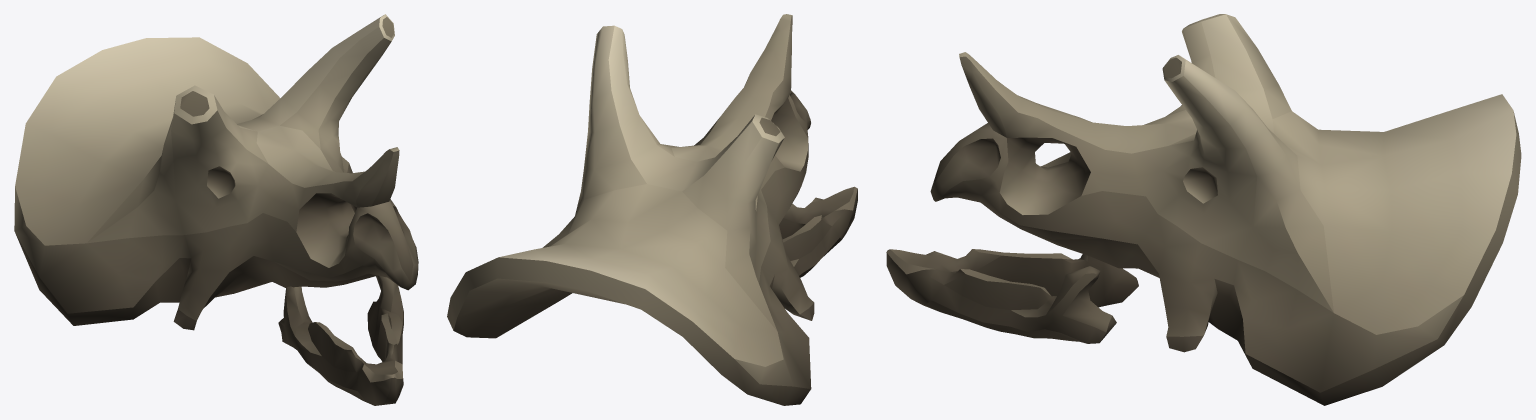
File: Giant_Skull_2A.fbx
3 renders of one model, left to right at view 1: azimuth 30°, elevation 25°; view 2: azimuth 150°, elevation 25°; view 3: azimuth 270°, elevation 25°, orthographic. The views are drawn at different scales.
Parts seen in each view (by area): view 1: Giant_Skull_2A; view 2: Giant_Skull_2A; view 3: Giant_Skull_2A.
Part boxes in pixels (x1,y1,x2,y2): Giant_Skull_2A: (14, 14, 418, 405); Giant_Skull_2A: (447, 14, 857, 405); Giant_Skull_2A: (886, 14, 1521, 405).
Size of the model in its own units: 2.27 by 1.9 by 3.42.
